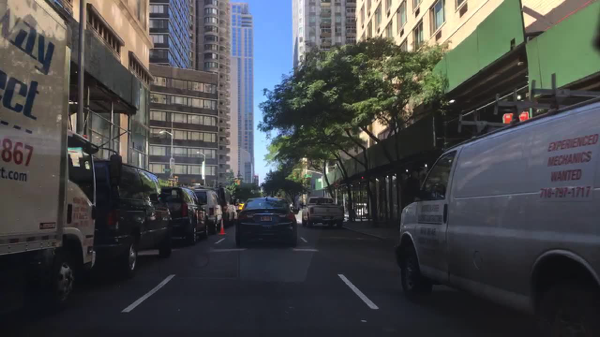car: (92, 160, 173, 278), (237, 198, 298, 247), (160, 187, 209, 245), (191, 190, 223, 235), (216, 189, 235, 226), (354, 203, 369, 219)
traffic light: (235, 180, 237, 185)
traffic sign: (304, 175, 312, 178), (162, 169, 170, 172), (169, 178, 176, 181)
truck: (396, 72, 599, 337), (0, 1, 123, 313), (301, 198, 344, 228)
